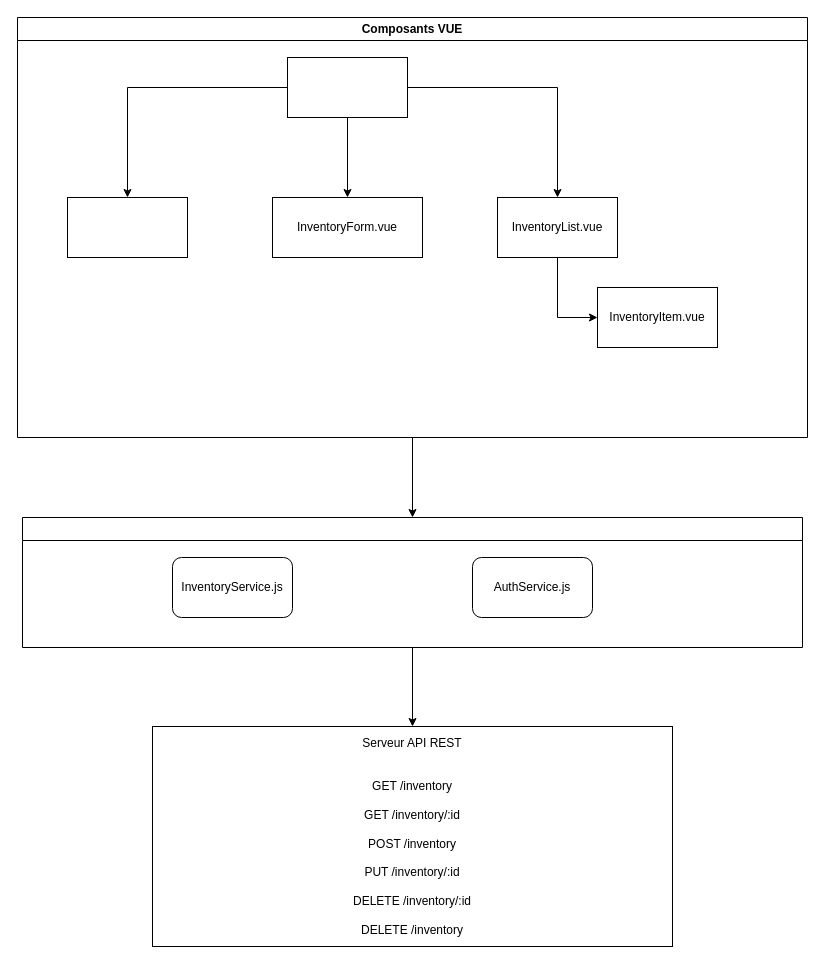
Some shapes in this 825 by 964 pixel diagram are drawn without their labels. The shapes that lost their labels are listed below. From the top down, each one's box as (x1, y1, x2, y2) in pixels, then its label:
(286, 56, 408, 118): App.vue
(66, 196, 188, 258): DeleteModal.vue
(22, 516, 802, 648): Services
